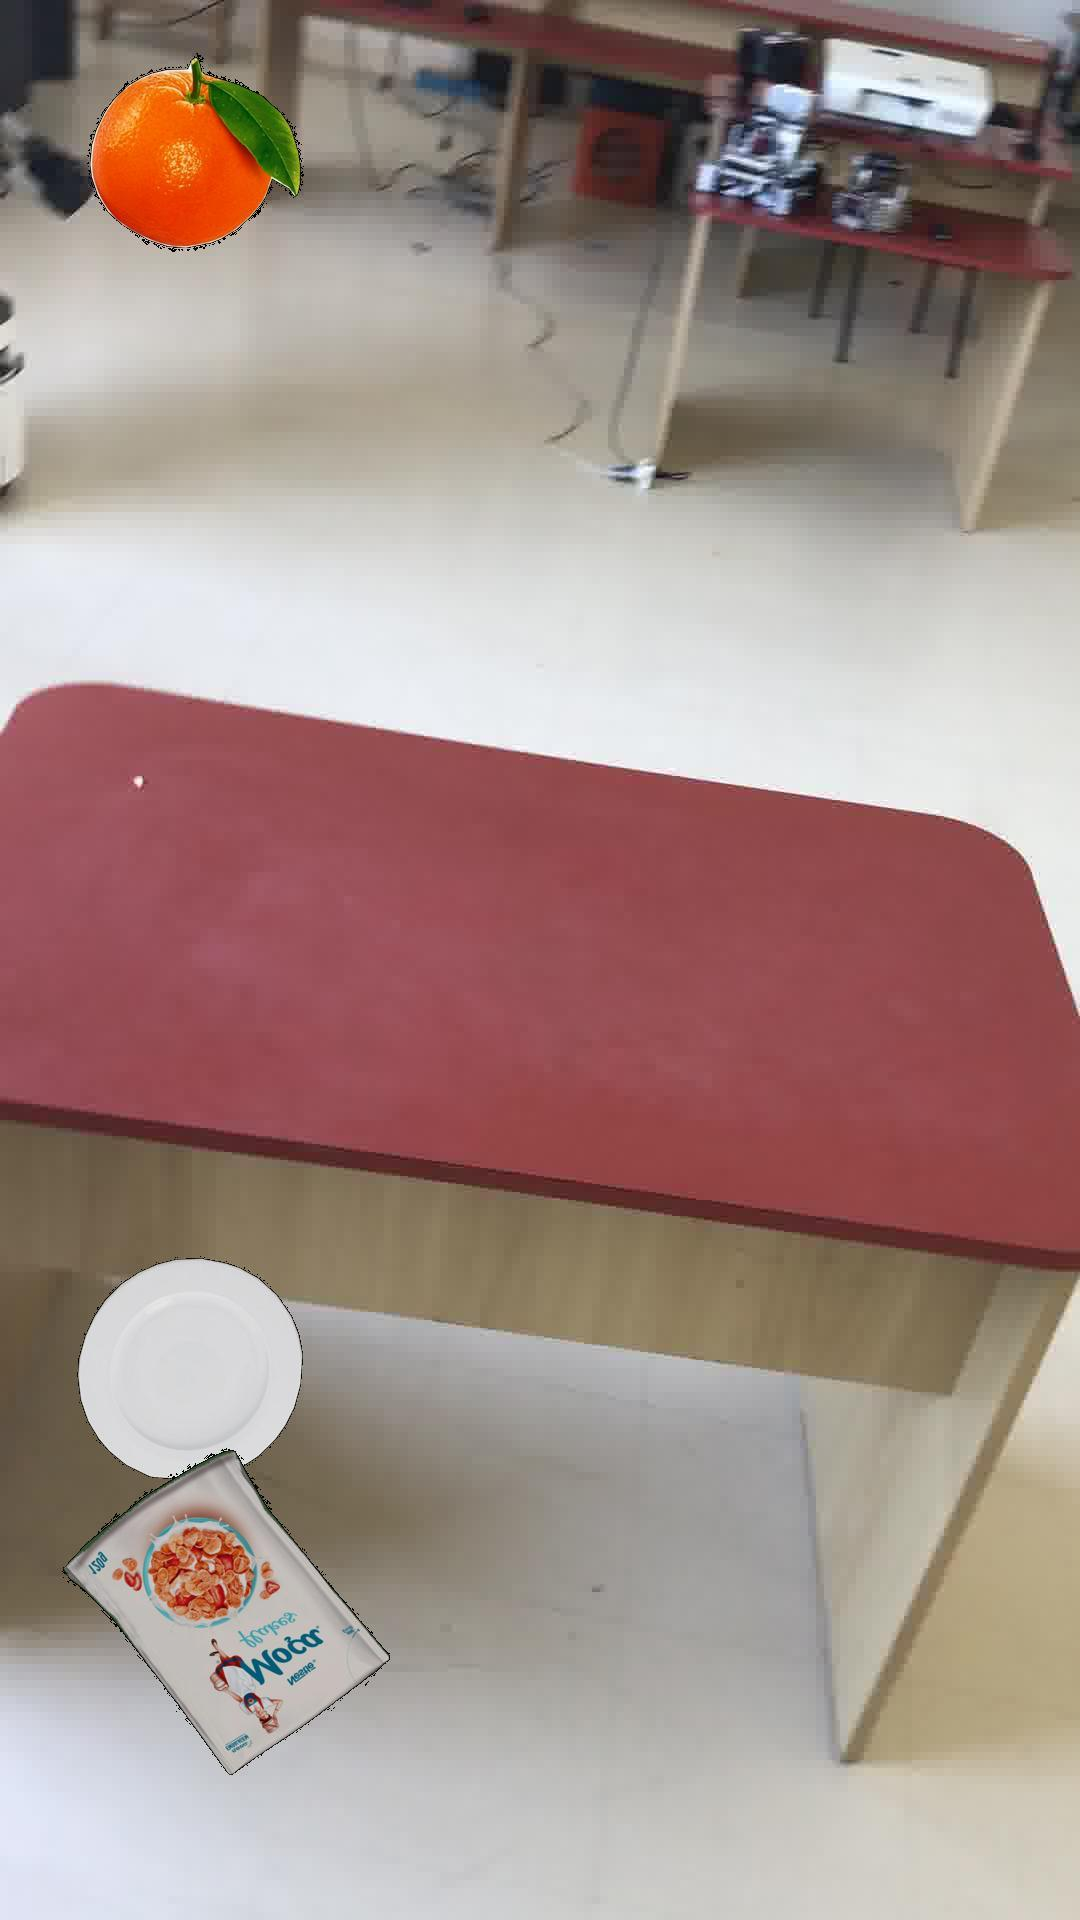corn flakes: (62, 1448, 389, 1774)
orange: (87, 51, 302, 251)
plate: (75, 1257, 302, 1477)
